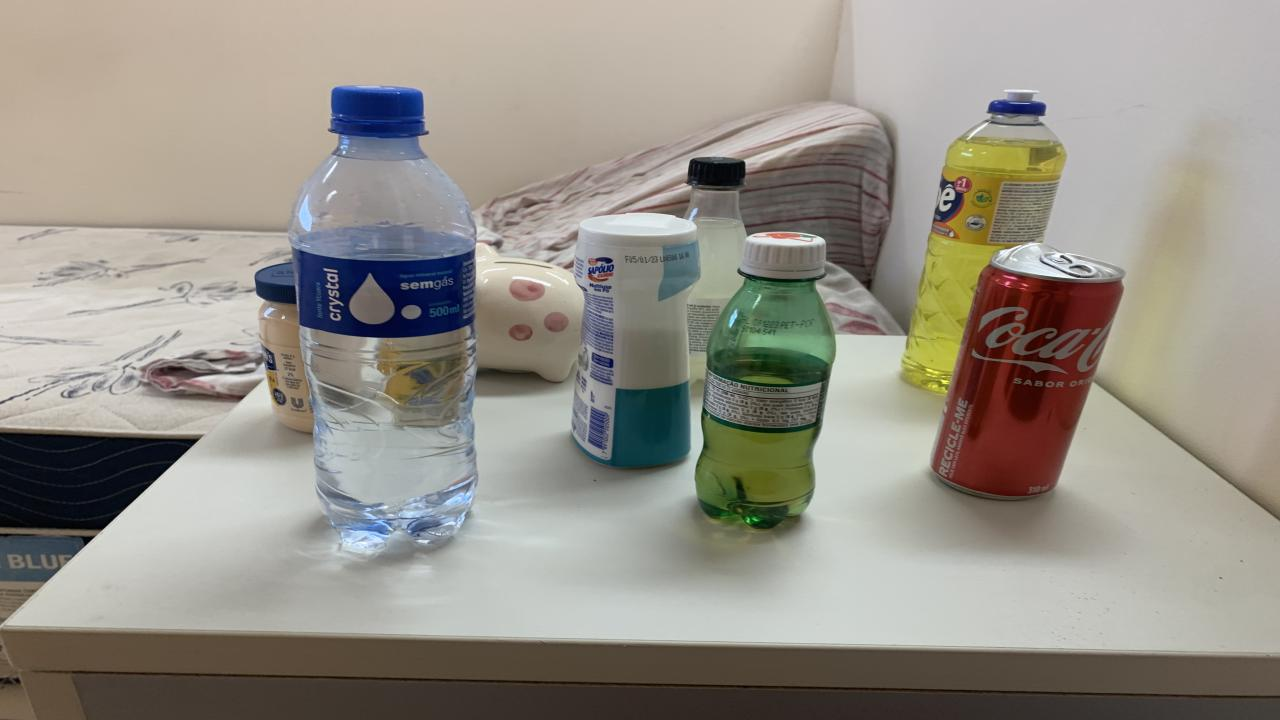Cleaner-Cleanup_Items: (570, 212, 700, 467)
Coke-Drinks: (932, 244, 1125, 499)
Detergent-Cleanup_Items: (902, 92, 1068, 392)
Guarana-Drinks: (695, 232, 835, 529)
Mayonnaise-Pantry_Items: (255, 262, 312, 433)
Pig_Safe-Miscellaneous: (475, 244, 582, 382)
Soda-Drinks: (685, 158, 745, 382)
Water_Bottle-Drinks: (290, 86, 478, 553)
